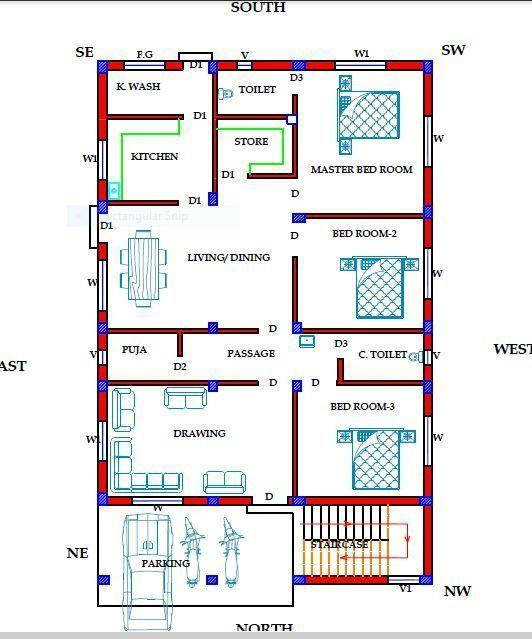Blueprint: (92, 54, 442, 591)
wall: (304, 495, 422, 507), (304, 210, 427, 221), (304, 573, 390, 587), (299, 326, 426, 335), (211, 72, 220, 195), (95, 71, 110, 142), (291, 390, 300, 499), (106, 326, 212, 335), (106, 378, 211, 387), (422, 503, 434, 577), (104, 112, 186, 122), (335, 378, 424, 387), (289, 253, 300, 325), (106, 198, 180, 208), (215, 112, 289, 121), (250, 58, 294, 73), (383, 57, 425, 72), (422, 71, 435, 118), (289, 122, 299, 181), (421, 164, 434, 208), (217, 493, 254, 507), (95, 458, 109, 495), (245, 171, 296, 181), (421, 216, 435, 251), (96, 389, 110, 424), (216, 378, 260, 388), (422, 464, 434, 499), (181, 494, 210, 508), (106, 493, 135, 507), (304, 59, 337, 71), (217, 327, 261, 336), (422, 295, 434, 325), (95, 177, 109, 202), (422, 391, 434, 420), (163, 58, 186, 73), (217, 58, 240, 73), (95, 240, 109, 263), (107, 58, 127, 73), (335, 356, 346, 381), (96, 331, 109, 352), (95, 307, 110, 325), (422, 332, 435, 352), (422, 362, 434, 383), (175, 331, 184, 359), (96, 363, 108, 382), (291, 92, 299, 116)
